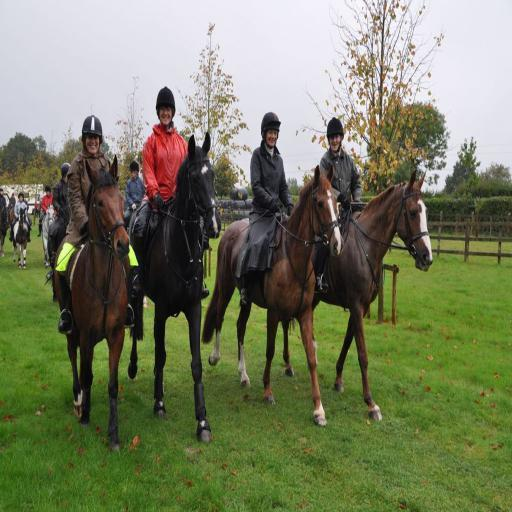horse: (280, 168, 435, 424), (199, 162, 346, 426), (126, 131, 223, 444), (46, 150, 130, 450), (10, 207, 30, 271), (41, 205, 56, 268), (0, 205, 11, 253)
